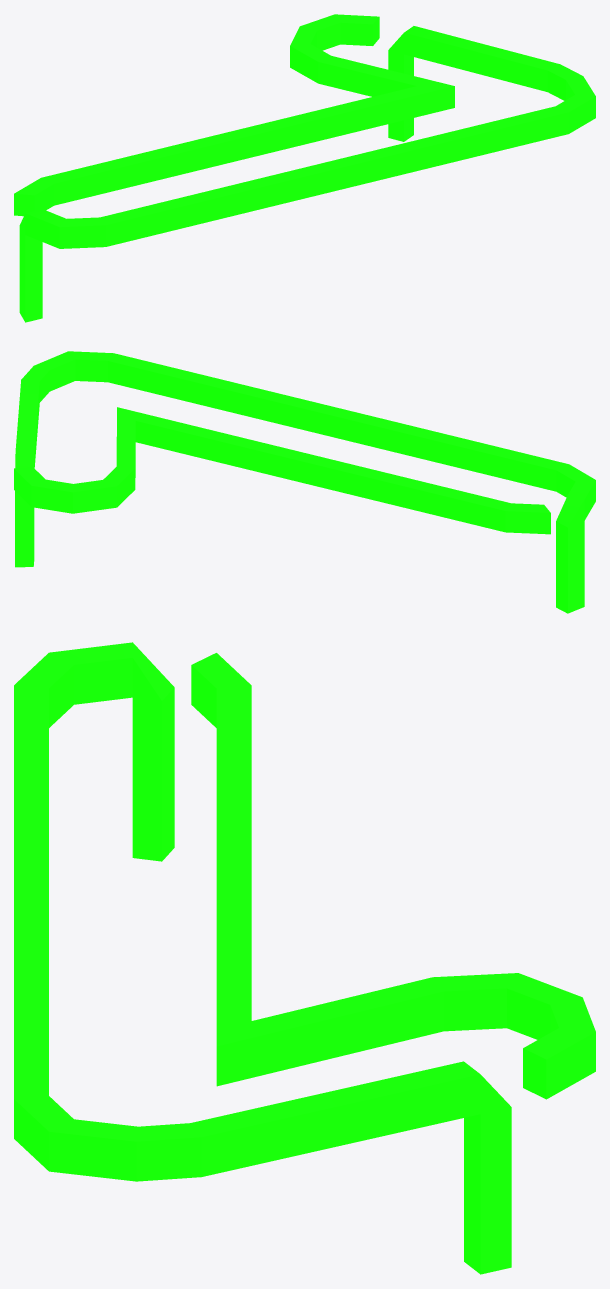
File: Number_3D_04_1.FBX
The picture shows the model from 3 angles, top to bottom: view 1: azimuth 30°, elevation 25°; view 2: azimuth 150°, elevation 25°; view 3: azimuth 270°, elevation 25°; orthographic projection. The views are drawn at different scales.
Parts seen in each view (by area): view 1: Number_3D_04_1; view 2: Number_3D_04_1; view 3: Number_3D_04_1.
Boxes of the visible parts, x1,y1,x2,y2 form: Number_3D_04_1: (14,14,595,322); Number_3D_04_1: (14,351,595,613); Number_3D_04_1: (14,642,595,1274).
Size of the model in its own units: 67.56 by 12.63 by 33.28.
